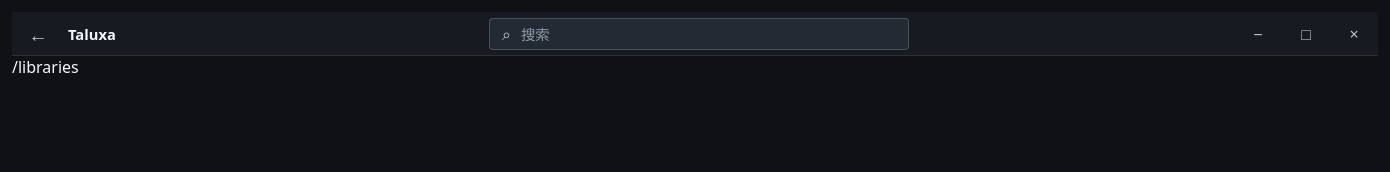
Test case: AppTitleBar › navigates to search results when a query is submitted
The image size is (1390, 172).
Step 1. Type "红楼梦" into the search field labelled "搜索" → (708,34), box [519,24,896,44]
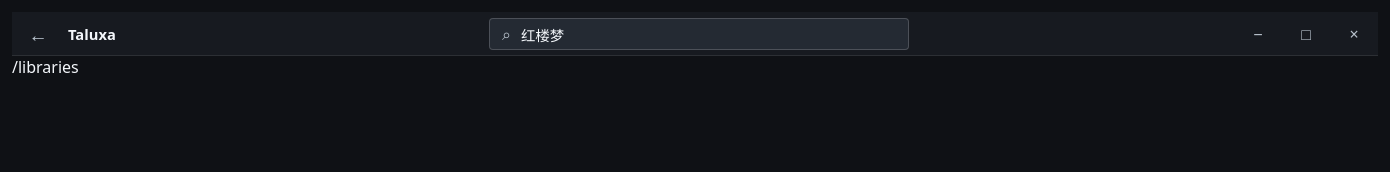
Step 2. Submit the form named "全局搜索", box [489,18,909,50]
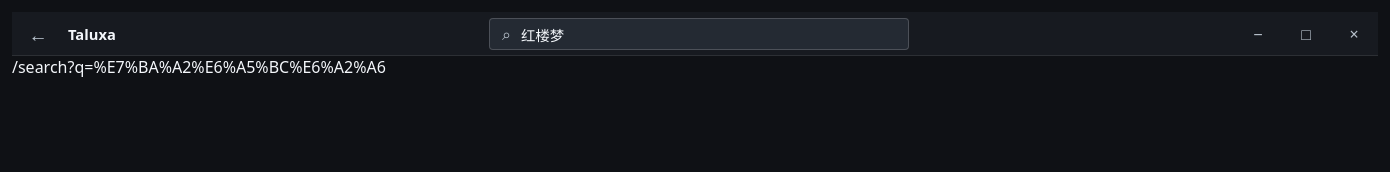
Result: the text named "location" reads "/search?q=%E7%BA%A2%E6%A5%BC%E6%A2%A6" at [12,56,386,78]
